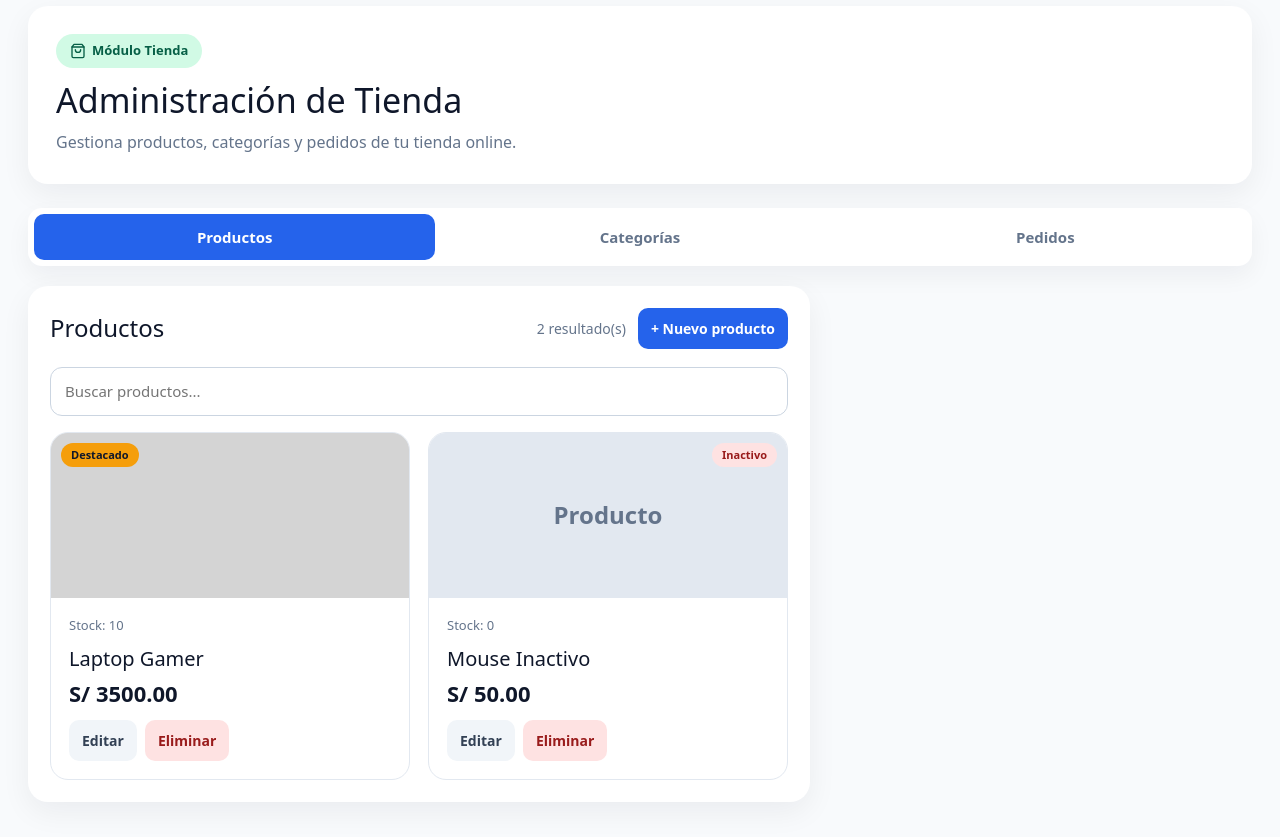
Test case: Tienda page › opens edit product form and updates product
This screenshot has width=1280, height=837.
expect the heading "Laptop Gamer" is shown: met, box [69,645,204,672]
Click the button "Editar" below "S/ 3500.00" at x=103, y=741, box [69,720,137,761]
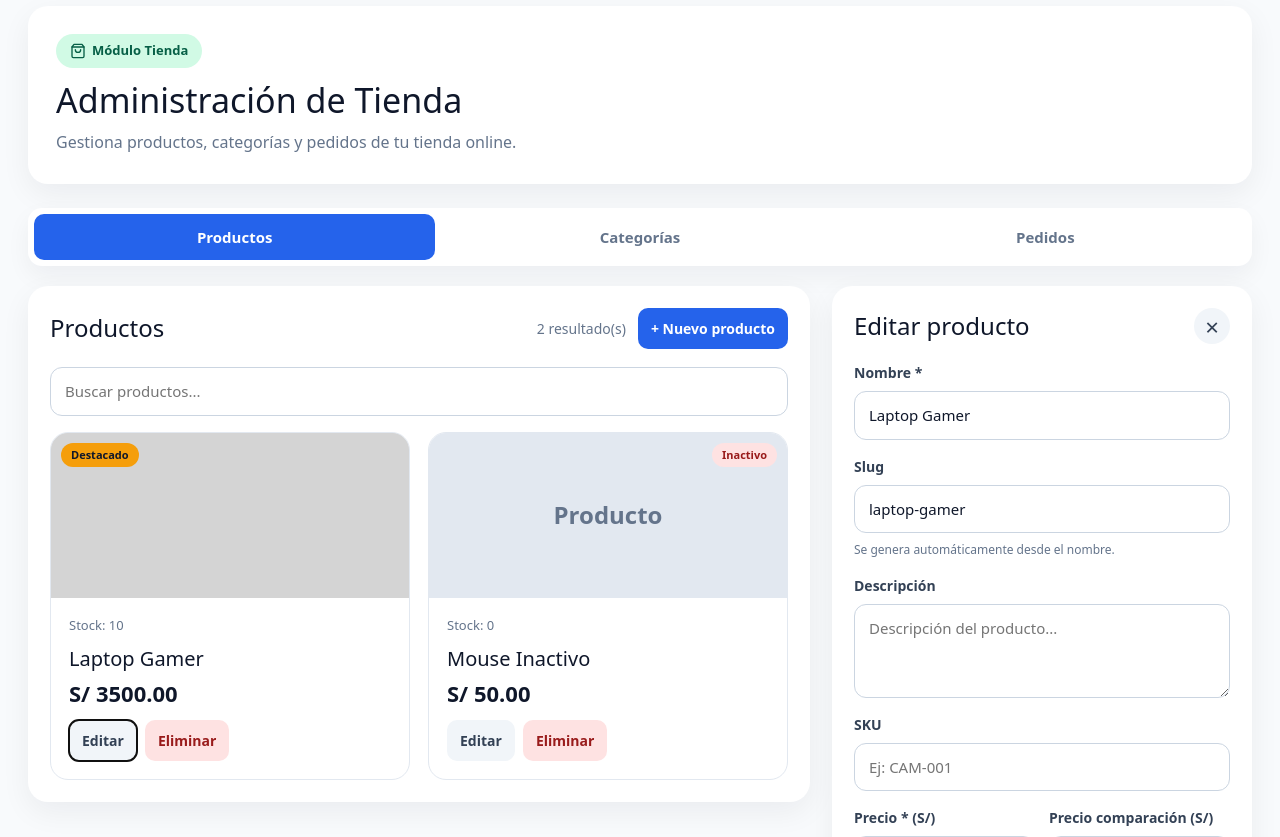
expect the heading "Editar producto" is shown: met, box [854,312,1030,341]
Replace the text in the field showing "Laptop Gamer" with "Laptop Editada" at x=1042, y=416, box [854,391,1230,440]
(page scrolled)
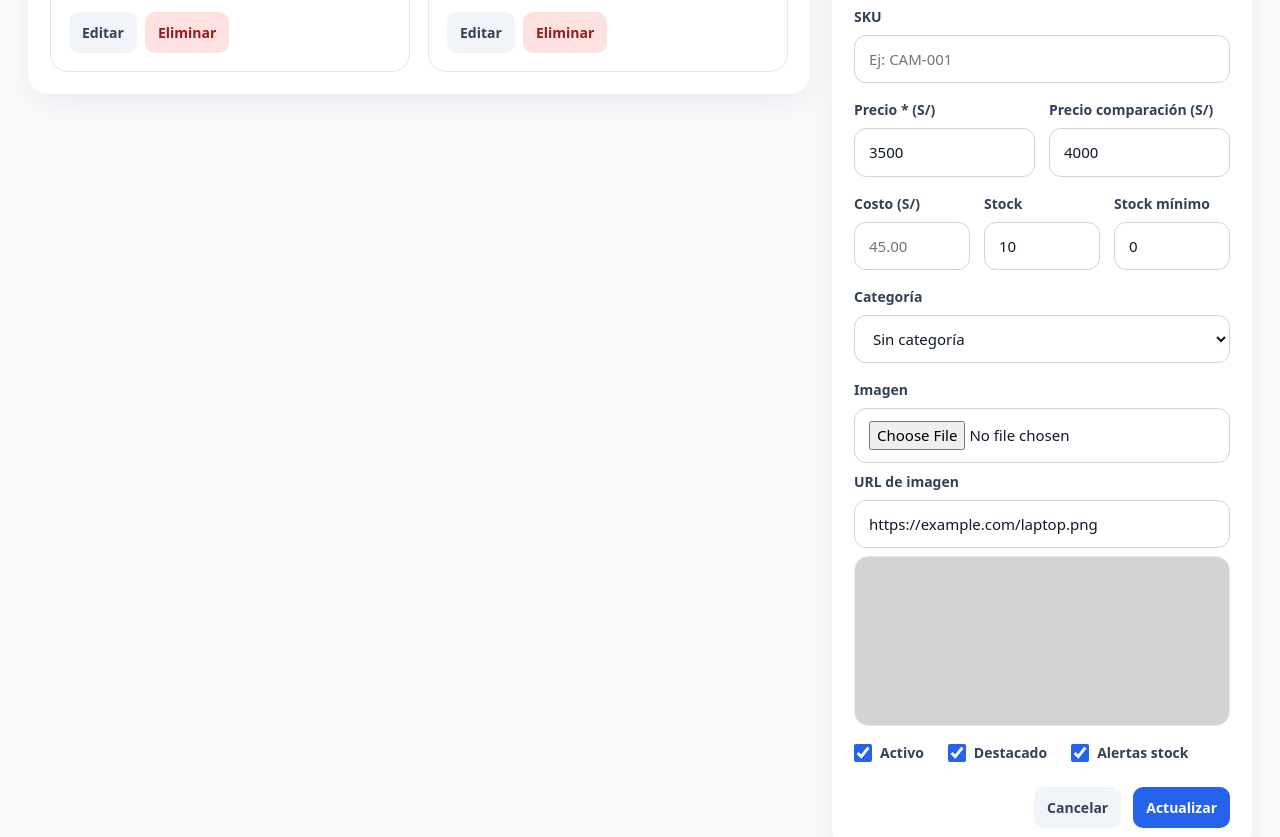
Click the button "Actualizar" at x=1182, y=808, box [1133,787,1230,828]
(page scrolled)
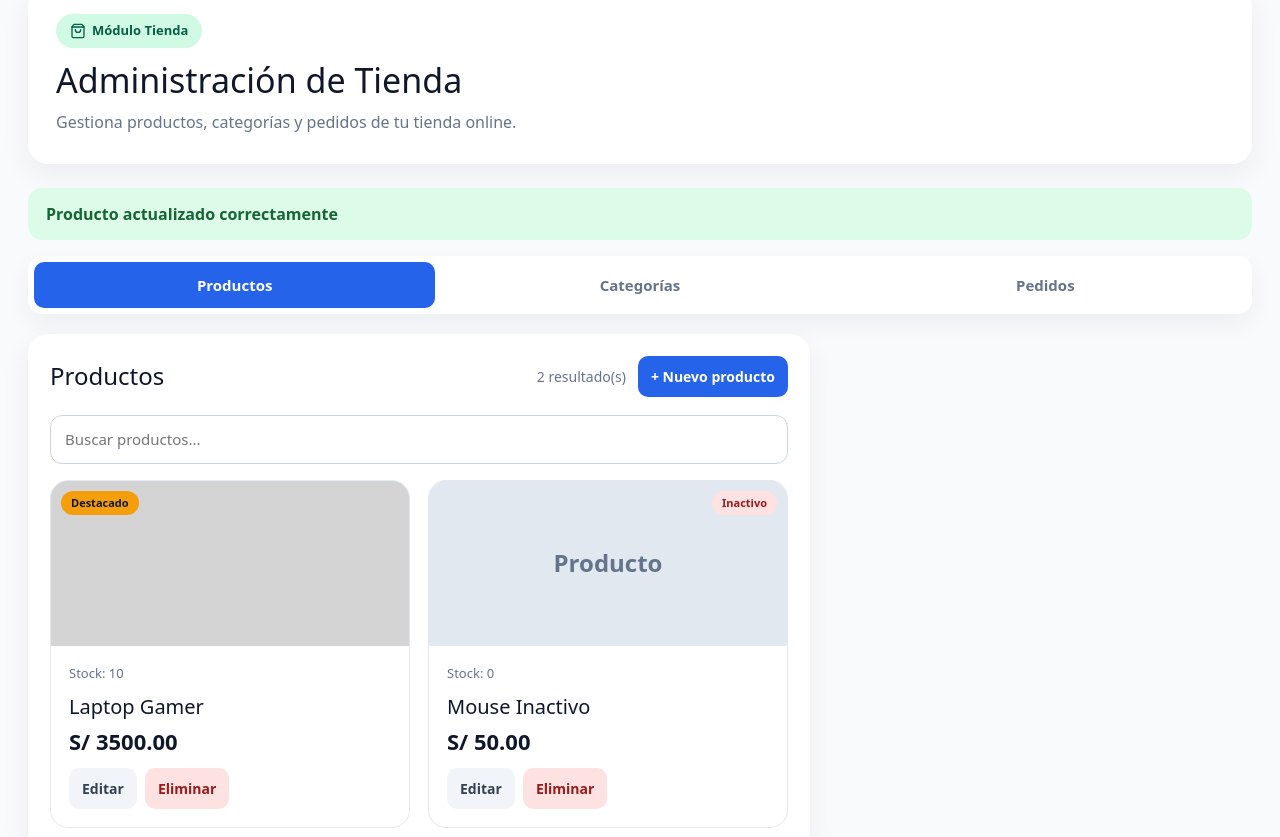
expect the text "Producto actualizado correctamente" is shown: met, box [28,188,1252,240]
